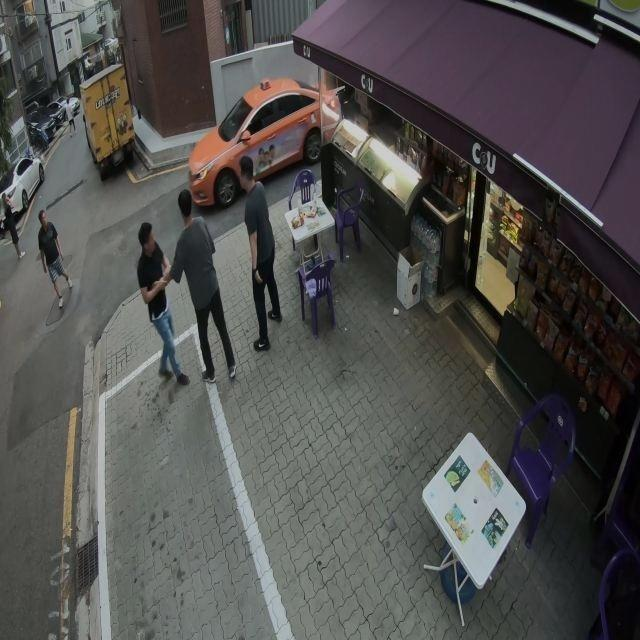fight: (133, 187, 234, 387)
non-fight: (240, 156, 281, 352), (36, 206, 72, 326)
